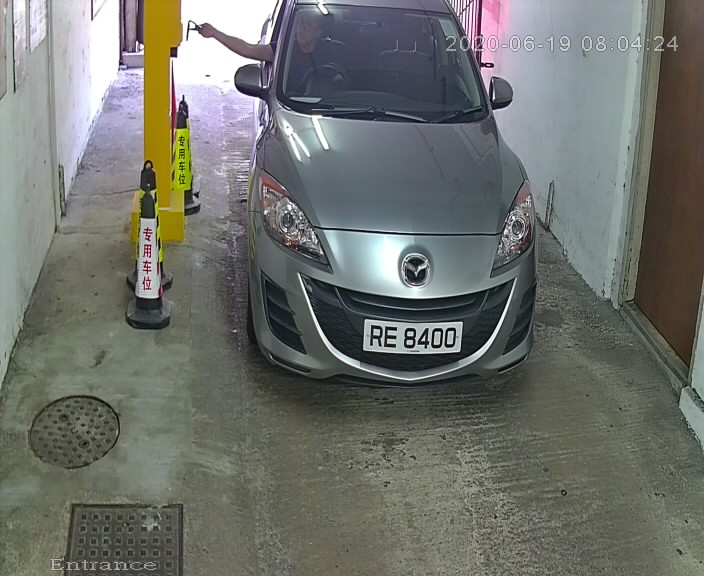bottom_left_lp: (360, 343, 367, 355)
bottom_left_radiator: (327, 340, 337, 350)
bottom_left_windshield: (274, 90, 288, 100)
bottom_right_lp: (454, 345, 462, 354)
bottom_right_radiator: (476, 340, 490, 353)
bottom_right_windshield: (474, 101, 490, 114)
brand: (398, 249, 434, 289)
left_headlight: (254, 169, 338, 278)
right_headlight: (485, 174, 538, 282)
top_left_lp: (362, 316, 368, 323)
top_left_radiator: (295, 269, 304, 280)
top_left_windshield: (287, 1, 301, 10)
top_right_lp: (458, 319, 467, 328)
top_right_radiator: (508, 272, 518, 287)
top_right_windshield: (441, 7, 456, 20)
